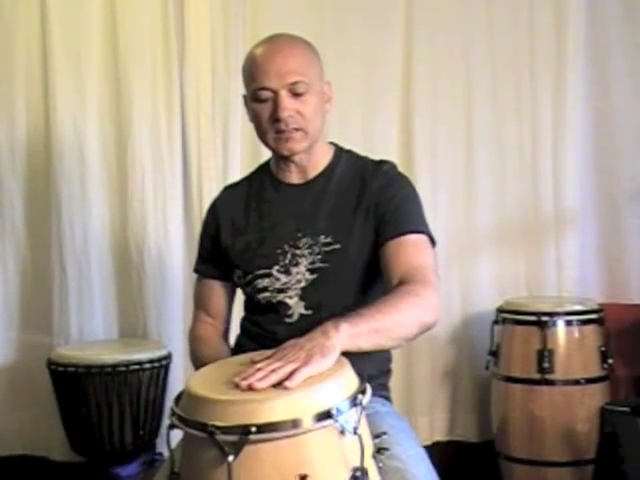person: (188, 33, 440, 480)
